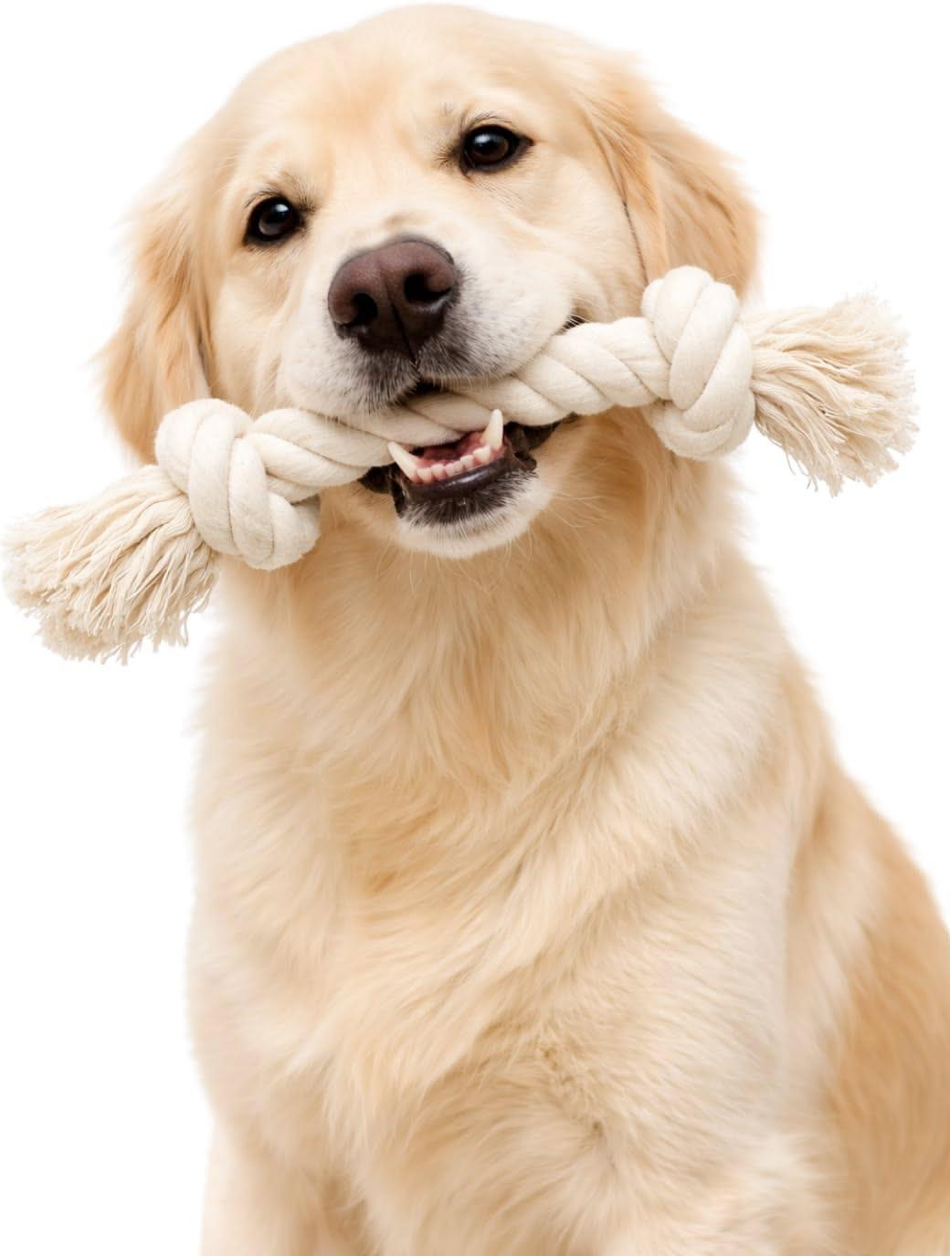adult_dog: (96, 3, 950, 1256)
